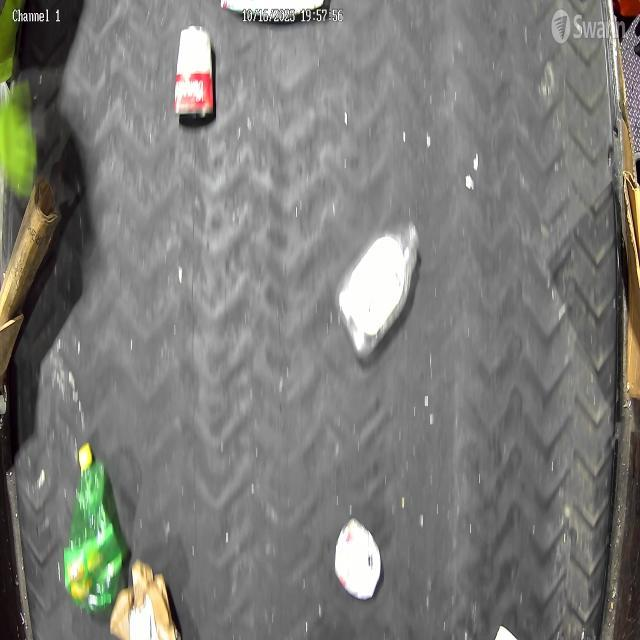can: (174, 22, 218, 128)
plastic_bottle: (62, 438, 132, 618)
